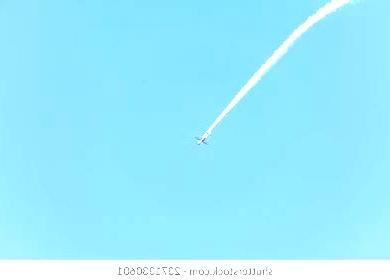Plane: (182, 26, 294, 152)
